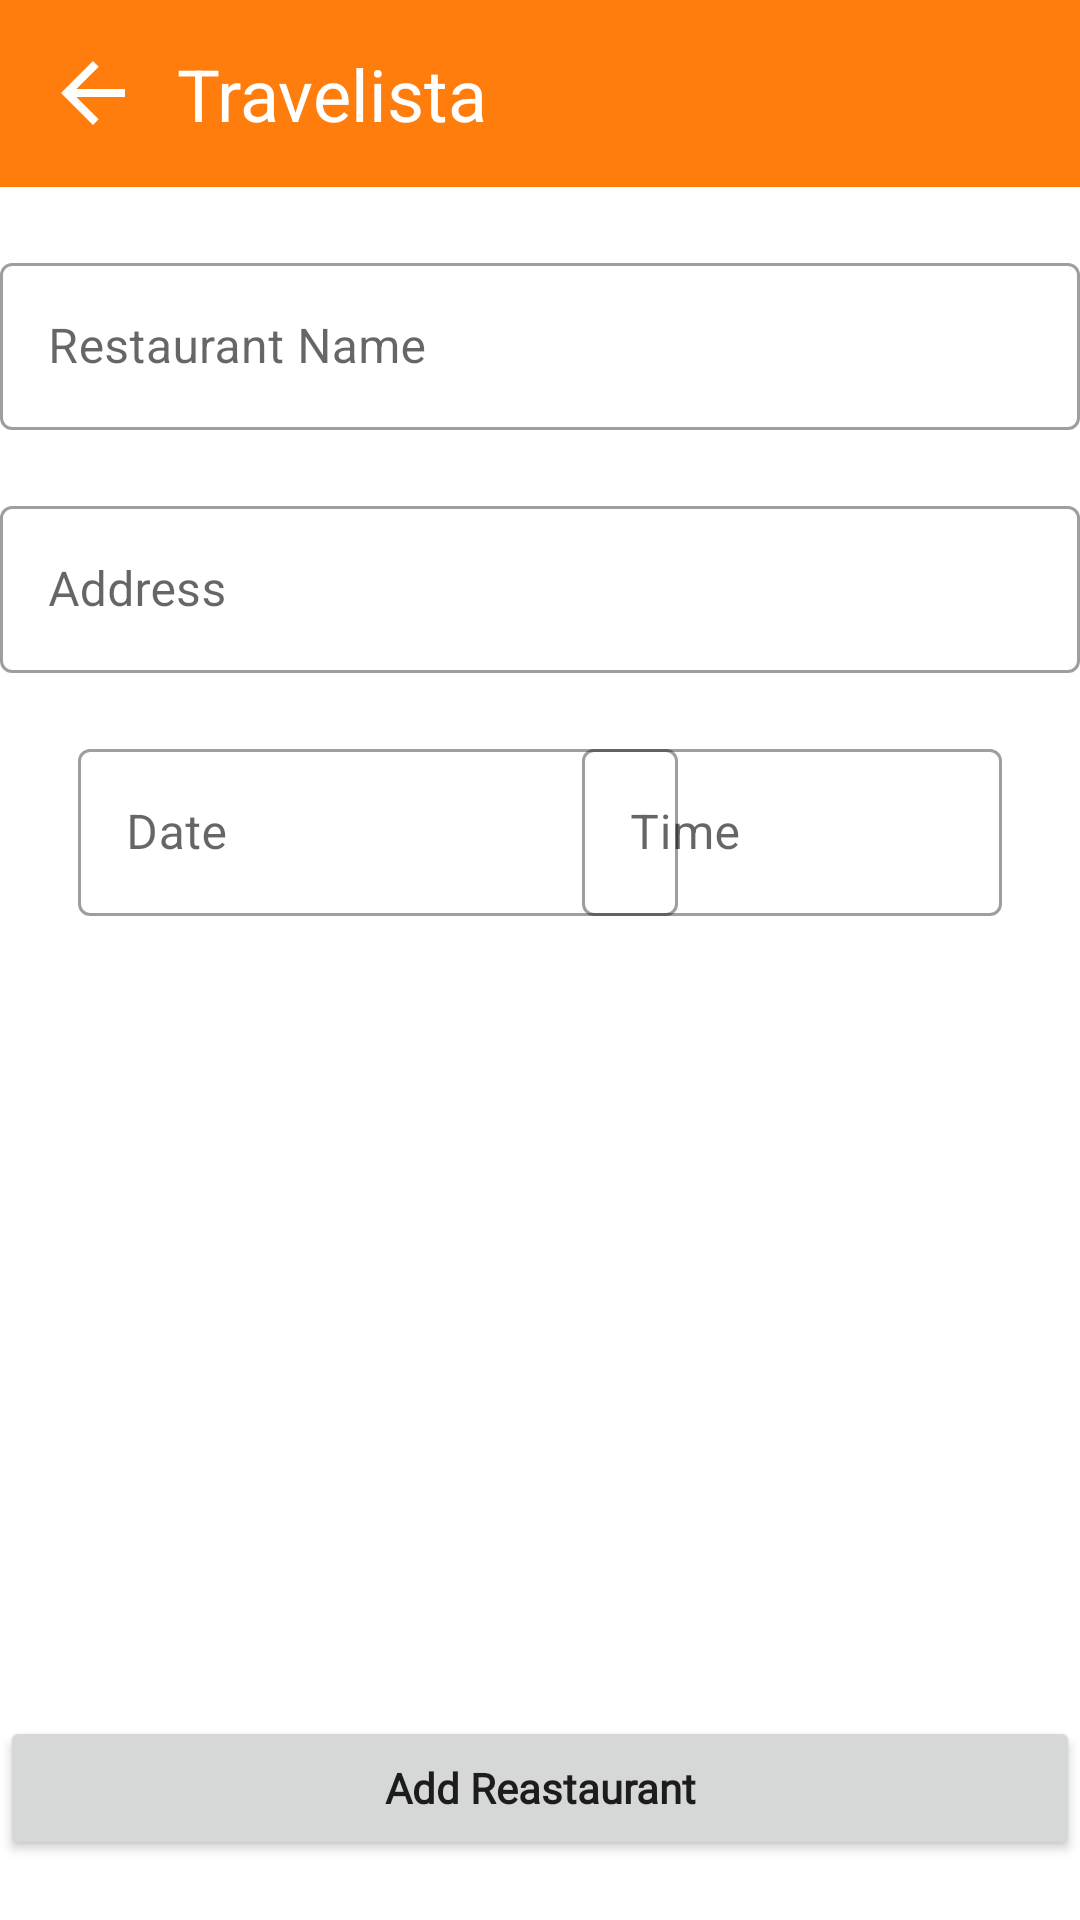

Icons on this 1080px×1920px Android screen, each with the point to tap as (x,y):
back: (93,93)
